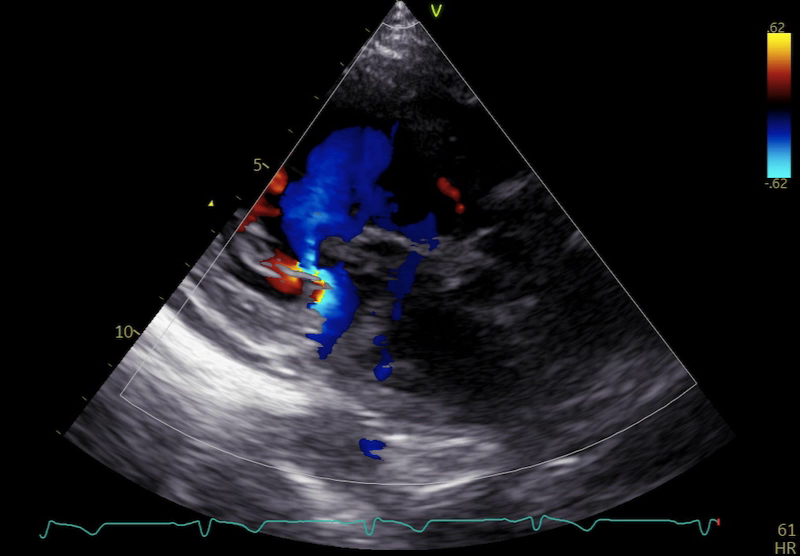MR: (297, 236, 345, 316)
